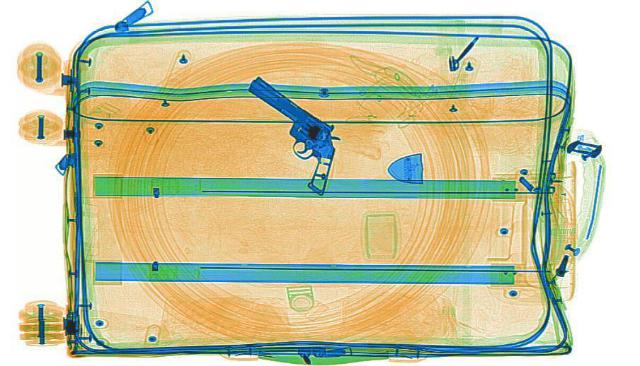Gun: (192, 75, 386, 191)
